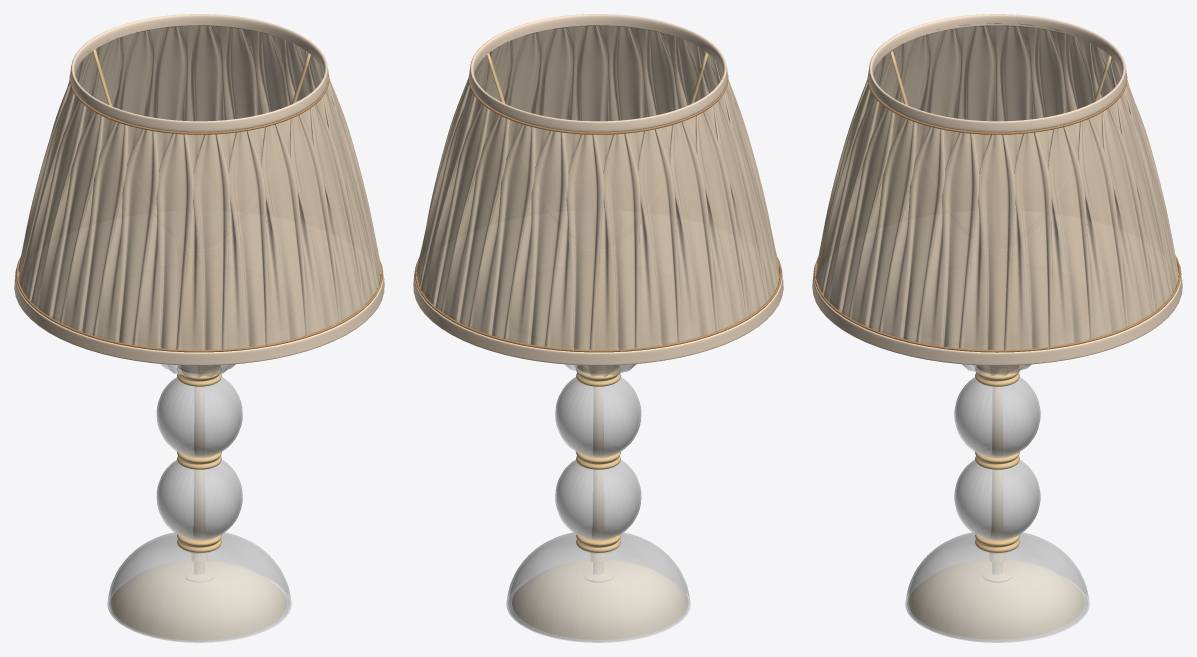
Rendered from lampe.glb.
3 views of the same model, side by side, from view 1: azimuth 30°, elevation 25°; view 2: azimuth 150°, elevation 25°; view 3: azimuth 270°, elevation 25° (orthographic).
Parts seen in each view (by area): view 1: Plafon, Circle.002, Metal, Plafon Lenta, Plafon Decor; view 2: Plafon, Circle.002, Metal, Plafon Lenta, Plafon Decor; view 3: Plafon, Circle.002, Metal, Plafon Lenta, Plafon Decor.
Boxes of the visible parts, x1=… form: Plafon: x1=18, y1=25, x2=381, y2=349; Circle.002: x1=107, y1=364, x2=291, y2=642; Metal: x1=92, y1=49, x2=310, y2=640; Plafon Lenta: x1=14, y1=14, x2=384, y2=365; Plafon Decor: x1=16, y1=25, x2=382, y2=352; Plafon: x1=416, y1=25, x2=779, y2=349; Circle.002: x1=506, y1=364, x2=690, y2=642; Metal: x1=486, y1=53, x2=707, y2=639; Plafon Lenta: x1=413, y1=14, x2=783, y2=365; Plafon Decor: x1=415, y1=25, x2=781, y2=352; Plafon: x1=815, y1=23, x2=1178, y2=352; Circle.002: x1=905, y1=364, x2=1089, y2=642; Metal: x1=890, y1=51, x2=1111, y2=639; Plafon Lenta: x1=812, y1=14, x2=1182, y2=365; Plafon Decor: x1=813, y1=25, x2=1181, y2=352.
Bounding box in the file's own units: 0.2962 × 0.4729 × 0.2962.
